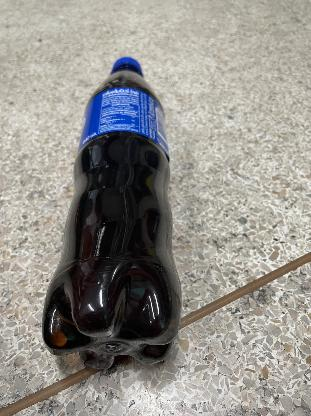Plastic Bottle: (34, 48, 198, 378)
